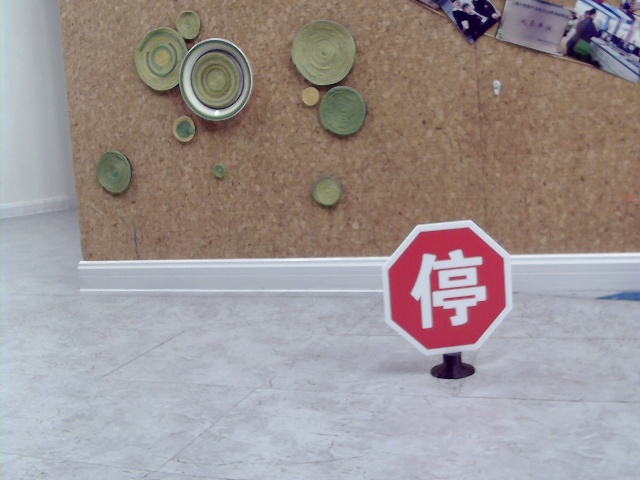stop: (408, 247, 487, 328)
